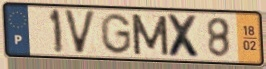1: (46, 8, 66, 56)
8: (205, 15, 234, 59)
G: (99, 12, 134, 56)
M: (129, 12, 172, 57)
V: (62, 8, 98, 57)
X: (165, 12, 204, 60)
